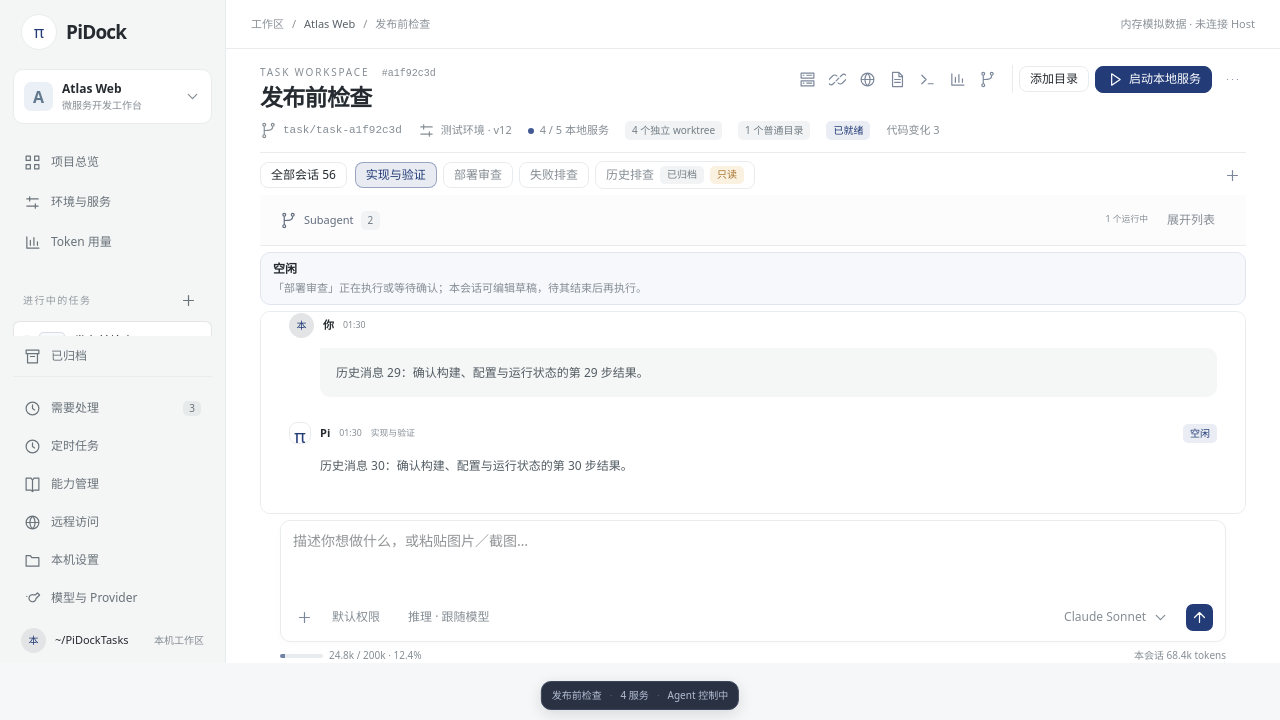
task tool rail › renders one tab per open tool and only the active panel's content
(page scrolled)
Expected: the heading "发布前检查" is shown, left=260, top=81, right=372, bottom=113
Click the button named "文件" at (898, 79), box left=884, top=65, right=912, bottom=93
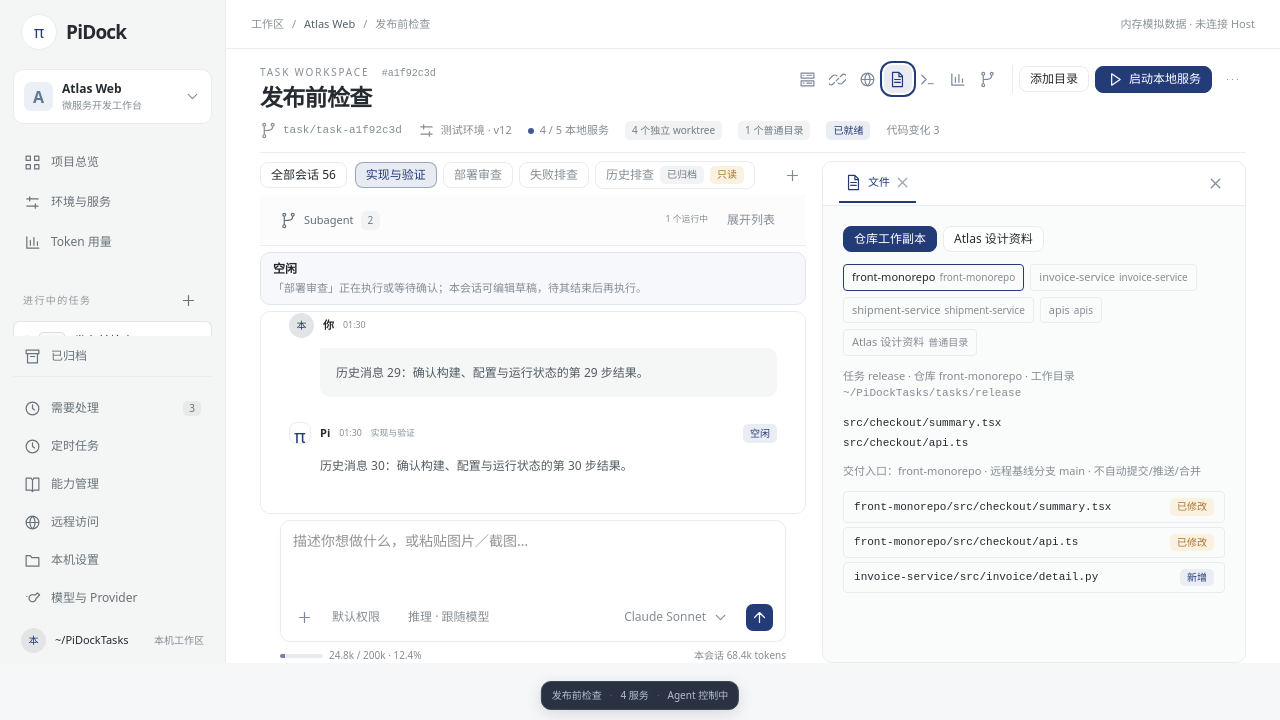
Result: the element with test id "file-roots" is shown at left=843, top=264, right=1225, bottom=356
Click the button named "终端" at (928, 79), box left=914, top=65, right=942, bottom=93
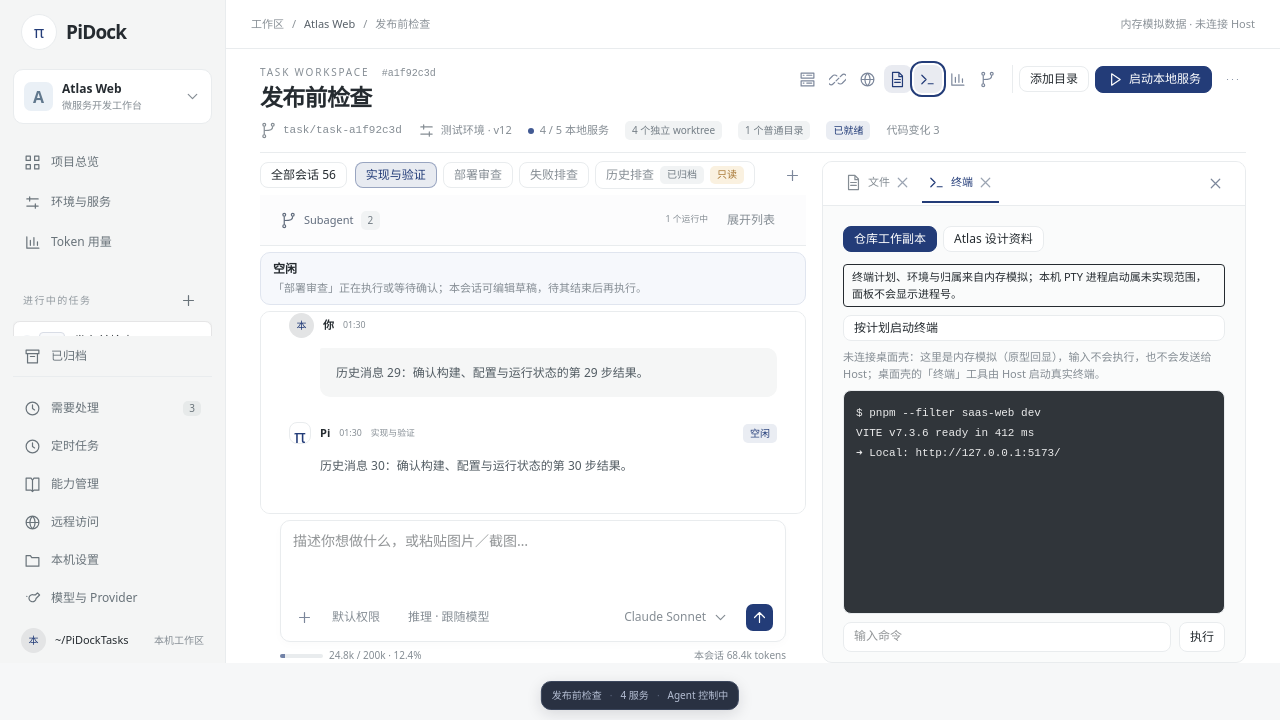
Result: the number of tabs is 2
Result: the text "终端计划、环境与归属来自内存模拟；本机 PTY 进程启动属未实现范围，面板不会显示进程号。" is shown at left=843, top=264, right=1225, bottom=307
Result: the element with test id "file-roots" is gone
// Switching tabs swaps the content without closing anything.
Click the tab with test id "tool-tab-files" at (866, 182), box left=839, top=164, right=892, bottom=201
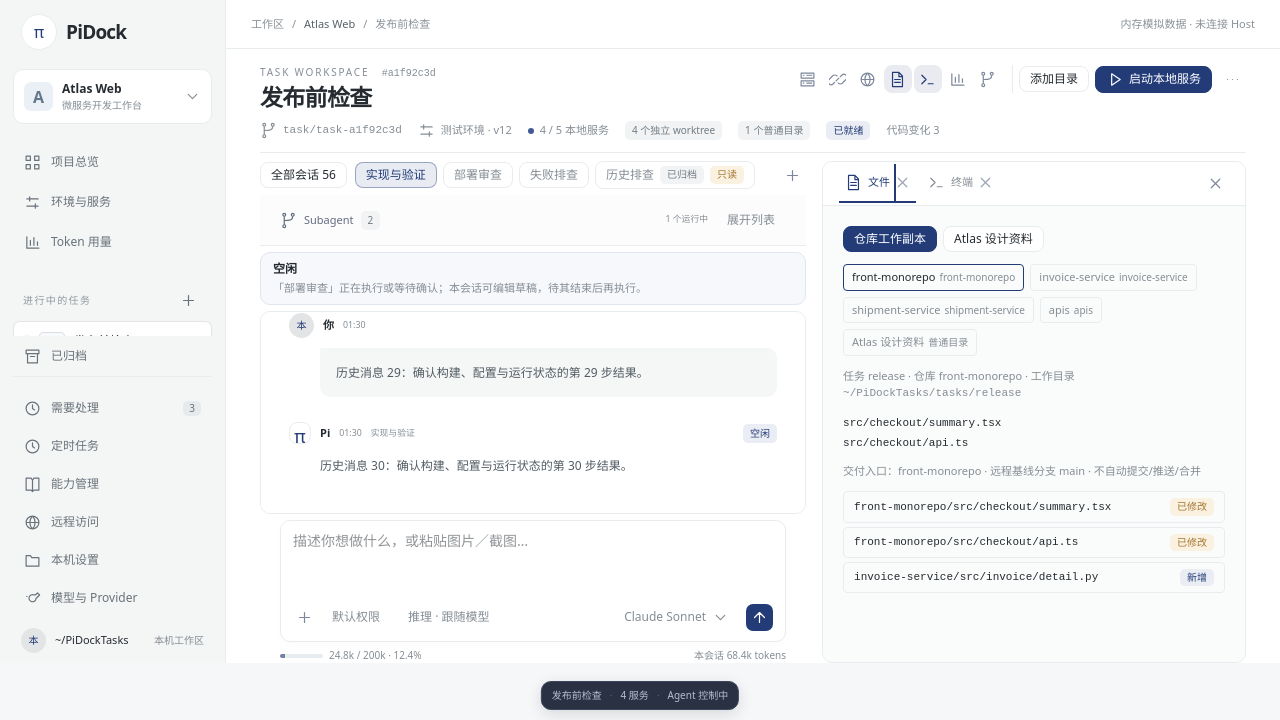
Result: the number of tabs is 2 at left=839, top=164, right=892, bottom=201; left=922, top=164, right=975, bottom=201
Result: the element with test id "file-roots" is shown at left=843, top=264, right=1225, bottom=356
